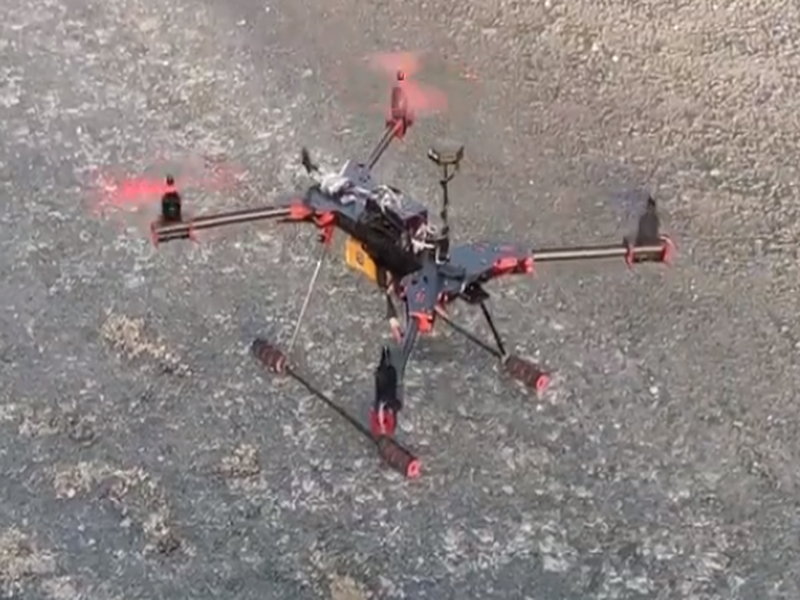enemy: (150, 71, 667, 474)
